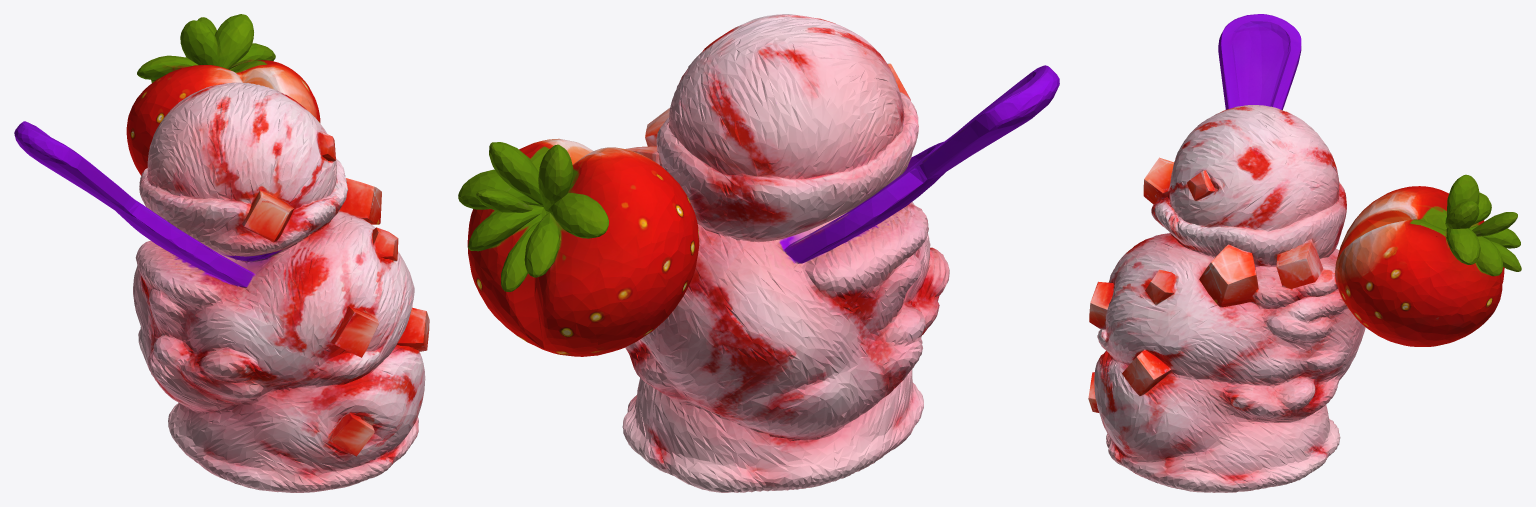
Rendered from Web_IceCream_Strawberry.obj.
The picture shows the model from 3 angles, left to right: view 1: azimuth 30°, elevation 25°; view 2: azimuth 150°, elevation 25°; view 3: azimuth 270°, elevation 25°; orthographic projection. The views are drawn at different scales.
Parts seen in each view (by area): view 1: Web_IceCream_Strawberry; view 2: Web_IceCream_Strawberry; view 3: Web_IceCream_Strawberry.
Part boxes in pixels (x1,y1,x2,y2): Web_IceCream_Strawberry: (14, 14, 429, 492); Web_IceCream_Strawberry: (458, 14, 1059, 492); Web_IceCream_Strawberry: (1088, 14, 1521, 492).
Size of the model in its own units: 0.9242 by 0.8628 by 1.01.
1 material, 1 textured.
